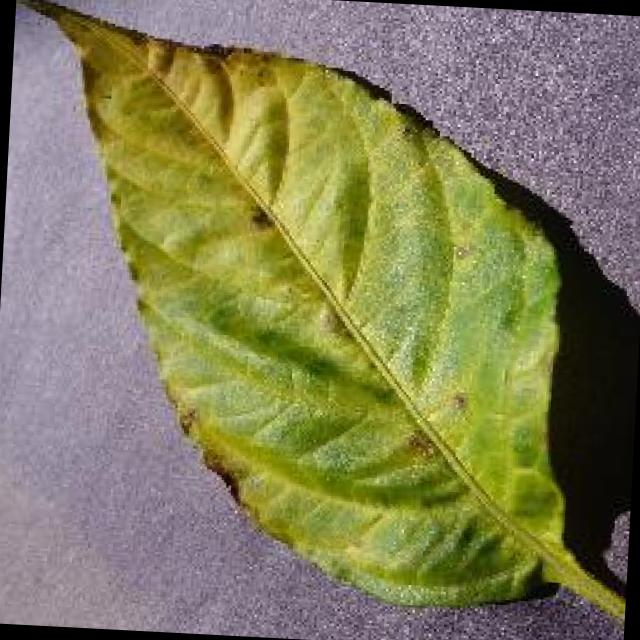Chilli_Bacterial_Spot: (0, 0, 598, 621), (398, 427, 440, 464), (171, 402, 200, 442), (446, 387, 472, 416)
